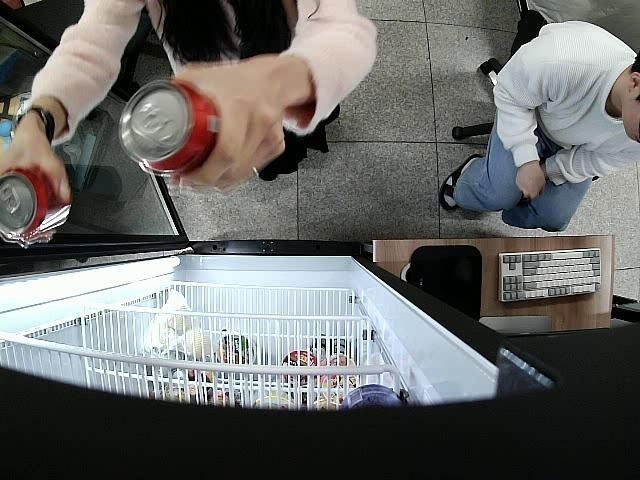11_cocaColaZero: (117, 80, 222, 180), (0, 164, 71, 243)
